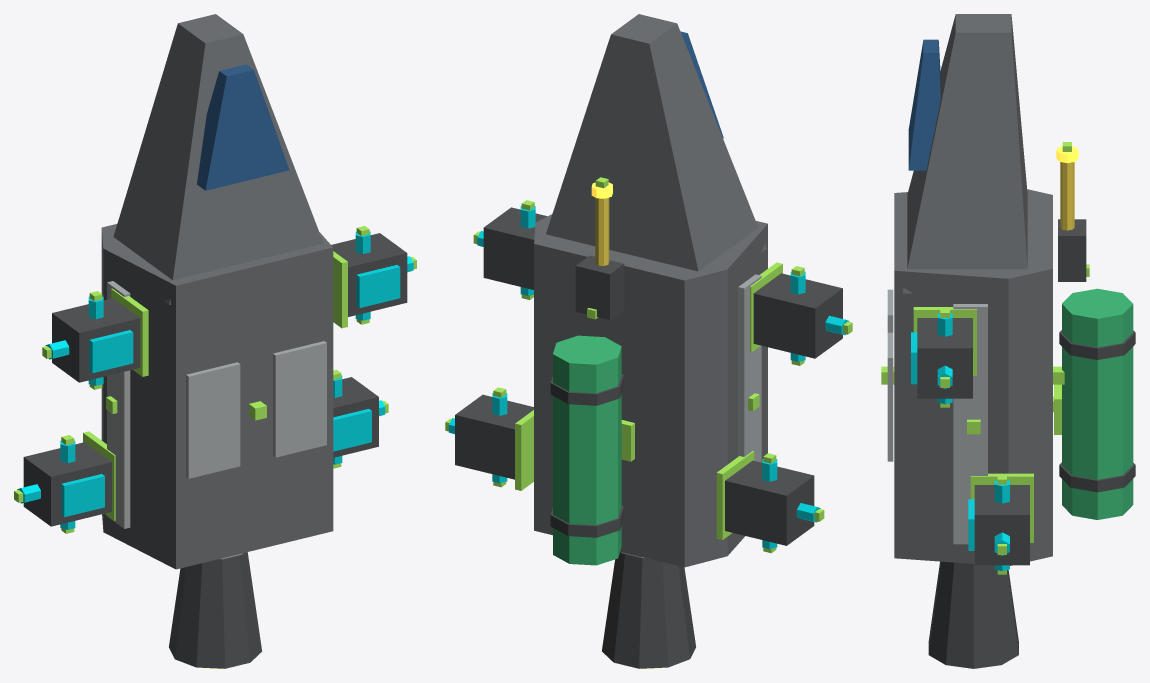
File: demo_scout_mk1.glb
3 views of the same model, side by side, from view 1: azimuth 30°, elevation 25°; view 2: azimuth 150°, elevation 25°; view 3: azimuth 270°, elevation 25° (orthographic).
Parts seen in each view (by area): view 1: DEMO_Scout_Mk1_GEO_Hull_Core_Faceted, DEMO_Scout_Mk1_GEO_Cockpit_Wedge_Body, DEMO_Scout_Mk1_GEO_MainEngine_Bell_DarkMetal, DEMO_Scout_Mk1_GEO_Cockpit_Canopy_DarkBlue, DEMO_Scout_Mk1_GEO_Hull_Core_TopPanel_-0.32, DEMO_Scout_Mk1_GEO_Hull_Core_TopPanel_0.32, DEMO_Scout_Mk1_GEO_RCS_Pod_Body, DEMO_Scout_Mk1_GEO_RCS_Pod_Body.001, DEMO_Scout_Mk1_GEO_Hull_Core_Left_Rib, DEMO_Scout_Mk1_GEO_RCS_Pod_Body.002, DEMO_Scout_Mk1_GEO_RCS_Pod_Body.003, DEMO_Scout_Mk1_GEO_RCS_Pod_Cyan_Top (+6 smaller); view 2: DEMO_Scout_Mk1_GEO_Hull_Core_Faceted, DEMO_Scout_Mk1_GEO_Cockpit_Wedge_Body, DEMO_Scout_Mk1_GEO_Fuel_Tank_Green_8Sided, DEMO_Scout_Mk1_GEO_MainEngine_Bell_DarkMetal, DEMO_Scout_Mk1_GEO_RCS_Pod_Body, DEMO_Scout_Mk1_GEO_RCS_Pod_Body.001, DEMO_Scout_Mk1_GEO_RCS_Pod_Body.003, DEMO_Scout_Mk1_GEO_RCS_Pod_Body.002, DEMO_Scout_Mk1_GEO_Hull_Core_Left_Rib, DEMO_Scout_Mk1_GEO_Gun_Mount_Base, DEMO_Scout_Mk1_RCS_Hardpoint_Right_Rear, DEMO_Scout_Mk1_RCS_Hardpoint_Left_Rear (+4 smaller); view 3: DEMO_Scout_Mk1_GEO_Hull_Core_Faceted, DEMO_Scout_Mk1_GEO_Cockpit_Wedge_Body, DEMO_Scout_Mk1_GEO_Fuel_Tank_Green_8Sided, DEMO_Scout_Mk1_GEO_MainEngine_Bell_DarkMetal, DEMO_Scout_Mk1_GEO_Hull_Core_Right_Rib, DEMO_Scout_Mk1_GEO_RCS_Pod_Body.002, DEMO_Scout_Mk1_GEO_RCS_Pod_Body.003, DEMO_Scout_Mk1_GEO_Cockpit_Canopy_DarkBlue, DEMO_Scout_Mk1_GEO_Gun_Mount_Base, DEMO_Scout_Mk1_GEO_Fuel_Tank_DarkBand_-0.46, DEMO_Scout_Mk1_GEO_Fuel_Tank_DarkBand_0.46, DEMO_Scout_Mk1_GEO_Gun_Barrel (+4 smaller).
Boxes of the visible parts, x1=… form: DEMO_Scout_Mk1_GEO_Hull_Core_Faceted: x1=101, y1=224, x2=333, y2=569; DEMO_Scout_Mk1_GEO_Cockpit_Wedge_Body: x1=113, y1=14, x2=323, y2=304; DEMO_Scout_Mk1_GEO_MainEngine_Bell_DarkMetal: x1=169, y1=552, x2=261, y2=668; DEMO_Scout_Mk1_GEO_Cockpit_Canopy_DarkBlue: x1=197, y1=64, x2=289, y2=190; DEMO_Scout_Mk1_GEO_Hull_Core_TopPanel_-0.32: x1=186, y1=362, x2=240, y2=478; DEMO_Scout_Mk1_GEO_Hull_Core_TopPanel_0.32: x1=273, y1=341, x2=326, y2=457; DEMO_Scout_Mk1_GEO_RCS_Pod_Body: x1=52, y1=298, x2=140, y2=382; DEMO_Scout_Mk1_GEO_RCS_Pod_Body.001: x1=23, y1=442, x2=111, y2=526; DEMO_Scout_Mk1_GEO_Hull_Core_Left_Rib: x1=107, y1=281, x2=130, y2=528; DEMO_Scout_Mk1_GEO_RCS_Pod_Body.002: x1=331, y1=233, x2=407, y2=316; DEMO_Scout_Mk1_GEO_RCS_Pod_Body.003: x1=333, y1=377, x2=378, y2=457; DEMO_Scout_Mk1_GEO_RCS_Pod_Cyan_Top: x1=89, y1=330, x2=133, y2=373; DEMO_Scout_Mk1_GEO_Hull_Core_Faceted: x1=534, y1=214, x2=767, y2=567; DEMO_Scout_Mk1_GEO_Cockpit_Wedge_Body: x1=546, y1=14, x2=766, y2=271; DEMO_Scout_Mk1_GEO_Fuel_Tank_Green_8Sided: x1=553, y1=335, x2=621, y2=565; DEMO_Scout_Mk1_GEO_MainEngine_Bell_DarkMetal: x1=602, y1=552, x2=695, y2=668; DEMO_Scout_Mk1_GEO_RCS_Pod_Body: x1=753, y1=273, x2=842, y2=358; DEMO_Scout_Mk1_GEO_RCS_Pod_Body.001: x1=725, y1=460, x2=814, y2=545; DEMO_Scout_Mk1_GEO_RCS_Pod_Body.003: x1=455, y1=394, x2=533, y2=479; DEMO_Scout_Mk1_GEO_RCS_Pod_Body.002: x1=483, y1=207, x2=547, y2=289; DEMO_Scout_Mk1_GEO_Hull_Core_Left_Rib: x1=738, y1=274, x2=761, y2=462; DEMO_Scout_Mk1_GEO_Gun_Mount_Base: x1=575, y1=255, x2=624, y2=319; DEMO_Scout_Mk1_RCS_Hardpoint_Right_Rear: x1=515, y1=410, x2=533, y2=490; DEMO_Scout_Mk1_RCS_Hardpoint_Left_Rear: x1=716, y1=451, x2=754, y2=539; DEMO_Scout_Mk1_GEO_Hull_Core_Faceted: x1=894, y1=189, x2=1052, y2=565; DEMO_Scout_Mk1_GEO_Cockpit_Wedge_Body: x1=902, y1=14, x2=1027, y2=293; DEMO_Scout_Mk1_GEO_Fuel_Tank_Green_8Sided: x1=1062, y1=288, x2=1133, y2=519; DEMO_Scout_Mk1_GEO_MainEngine_Bell_DarkMetal: x1=928, y1=561, x2=1018, y2=668; DEMO_Scout_Mk1_GEO_Hull_Core_Right_Rib: x1=953, y1=304, x2=987, y2=544; DEMO_Scout_Mk1_GEO_RCS_Pod_Body.002: x1=917, y1=318, x2=972, y2=398; DEMO_Scout_Mk1_GEO_RCS_Pod_Body.003: x1=974, y1=485, x2=1029, y2=565; DEMO_Scout_Mk1_GEO_Cockpit_Canopy_DarkBlue: x1=908, y1=39, x2=940, y2=170; DEMO_Scout_Mk1_GEO_Gun_Mount_Base: x1=1058, y1=219, x2=1086, y2=281; DEMO_Scout_Mk1_GEO_Fuel_Tank_DarkBand_-0.46: x1=1059, y1=462, x2=1135, y2=492; DEMO_Scout_Mk1_GEO_Fuel_Tank_DarkBand_0.46: x1=1059, y1=330, x2=1135, y2=359; DEMO_Scout_Mk1_GEO_Gun_Barrel: x1=1060, y1=162, x2=1074, y2=230.
Bounding box in the file's own units: 2.73 × 4.44 × 1.6.
